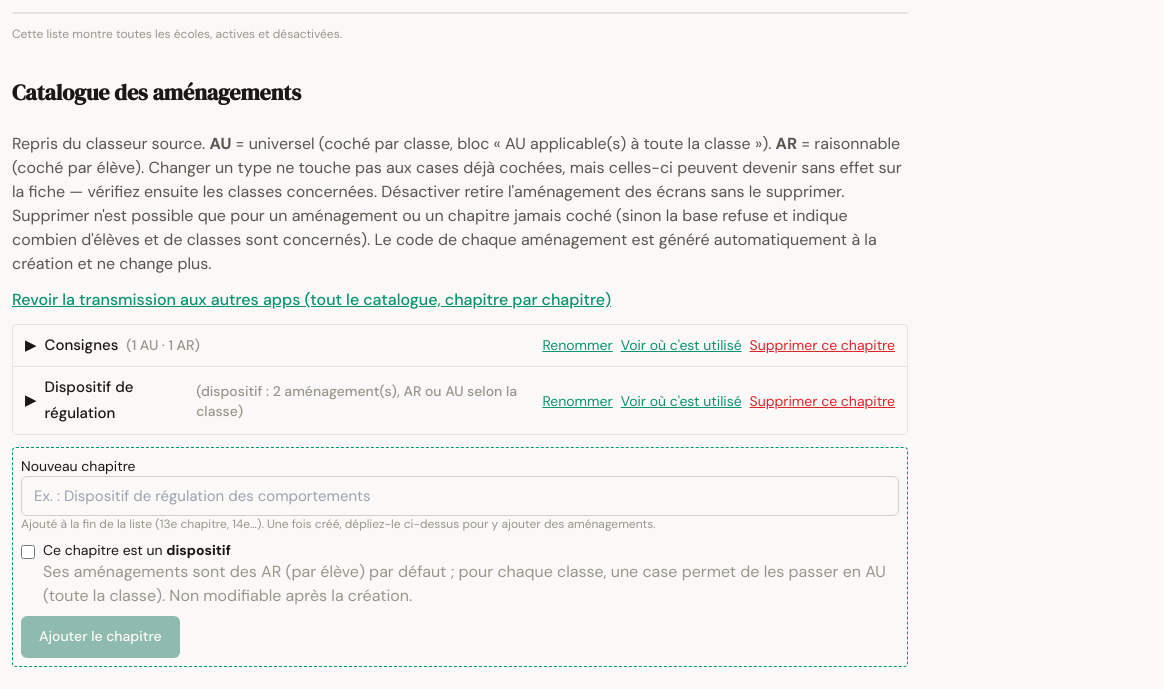
it: Administration : catalogue et dispositifs › entête de dispositif : compte et pas de sélecteur de type
The image size is (1164, 689).
(page scrolled)
Check: the text "(dispositif : 2 aménagement(s), AR ou AU selon la classe)" is shown, box [196,381,522,421]
Check: the text "(1 AU · 1 AR)" is shown, box [126,335,200,355]
Click the button "Dispositif de régulation". click: [274, 401]
box: [13,367,534,434]
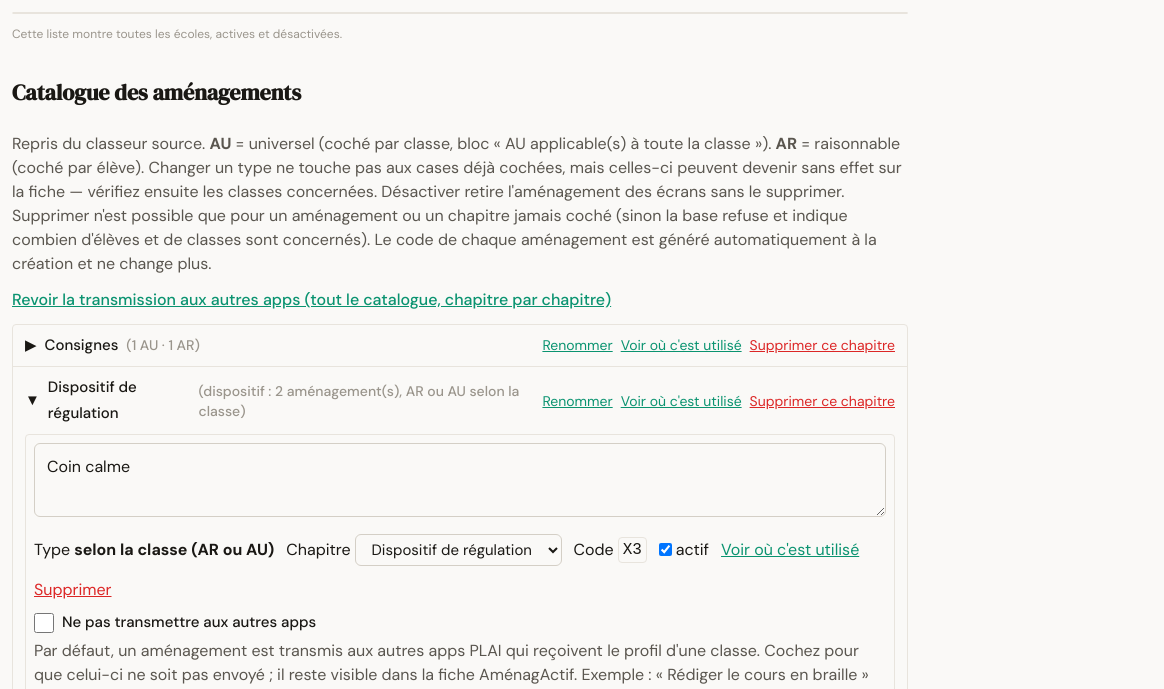
Check: the text "selon la classe (AR ou AU)" is shown 2 times
